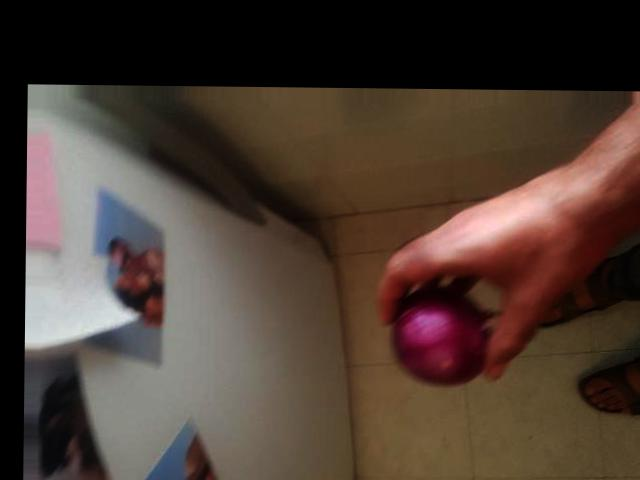onion: (382, 276, 507, 391)
